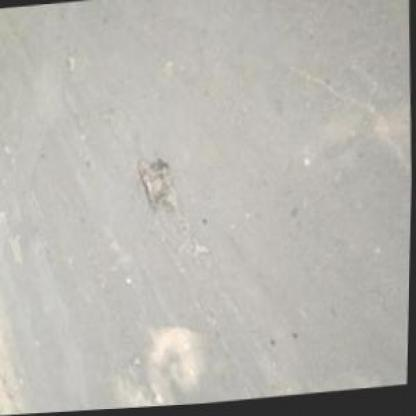pothole: (136, 152, 183, 216), (7, 229, 26, 266), (65, 50, 78, 72)
